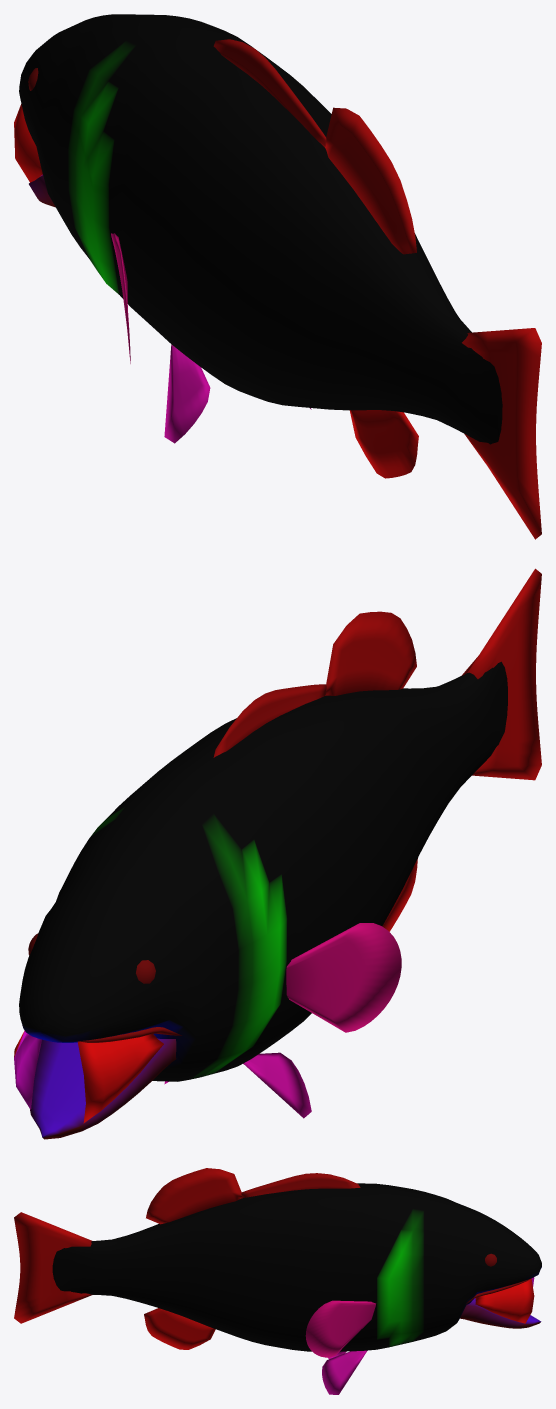
File: giant_sea_bass_lo.glb
3 views of the same model, one above another, from view 1: azimuth 30°, elevation 25°; view 2: azimuth 150°, elevation 25°; view 3: azimuth 270°, elevation 25° (orthographic). The views are drawn at different scales.
Visible parts, largest first — view 1: giant_sea_bass_lo; view 2: giant_sea_bass_lo; view 3: giant_sea_bass_lo.
Part boxes in pixels (<box>): giant_sea_bass_lo: <box>14,14,541,539</box>; giant_sea_bass_lo: <box>14,568,541,1139</box>; giant_sea_bass_lo: <box>14,1168,541,1394</box>.
Bounding box in the file's own units: 0.6218 × 0.8632 × 1.98.
